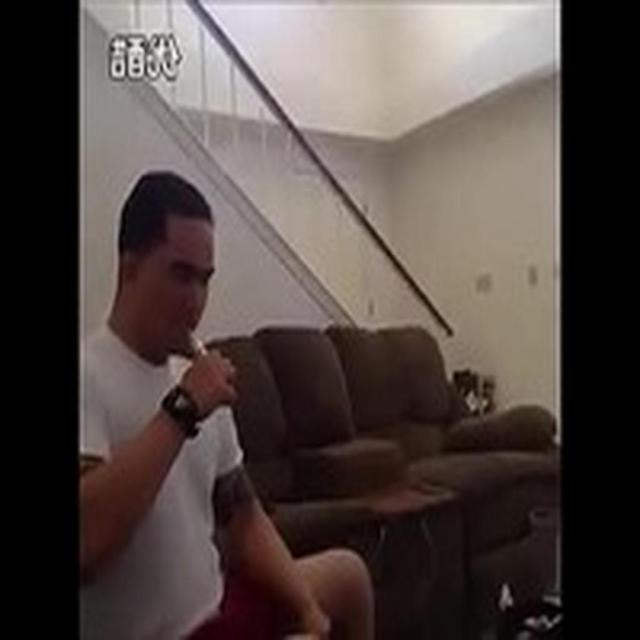smoking: (106, 169, 280, 431)
